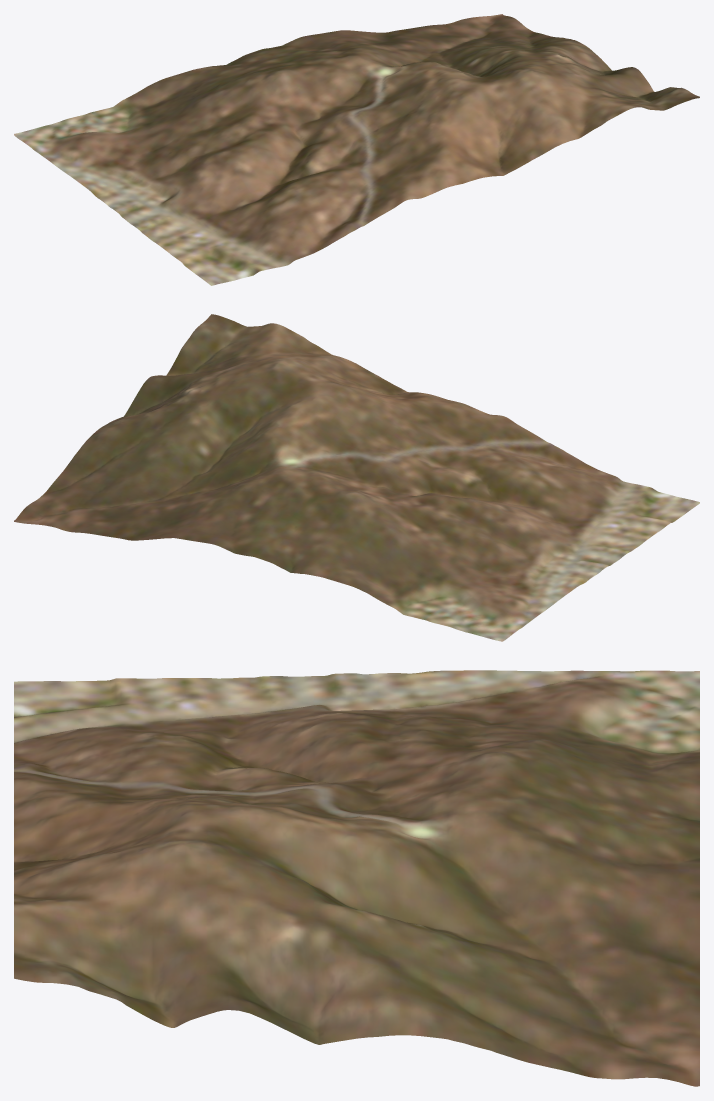
The model's file is terrain_r1_c5.glb.
The picture shows the model from 3 angles, top to bottom: view 1: azimuth 30°, elevation 25°; view 2: azimuth 150°, elevation 25°; view 3: azimuth 270°, elevation 25°; orthographic projection. The views are drawn at different scales.
Visible parts, largest first — view 1: terrain_r1_c5_lod0; view 2: terrain_r1_c5_lod0; view 3: terrain_r1_c5_lod0.
Part boxes in pixels (bbox=[...]): terrain_r1_c5_lod0: bbox=[14, 14, 699, 285]; terrain_r1_c5_lod0: bbox=[14, 314, 699, 641]; terrain_r1_c5_lod0: bbox=[14, 670, 699, 1086].
Size of the model in its own units: 1125 by 192 by 787.
1 material, 1 textured.
